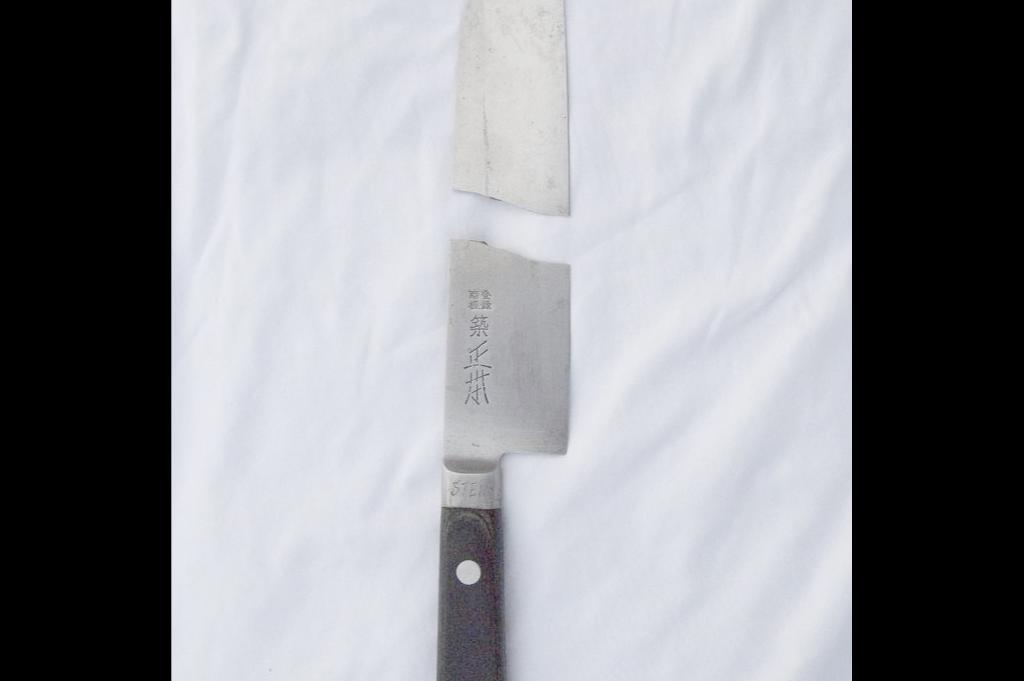melee: (430, 0, 586, 681)
